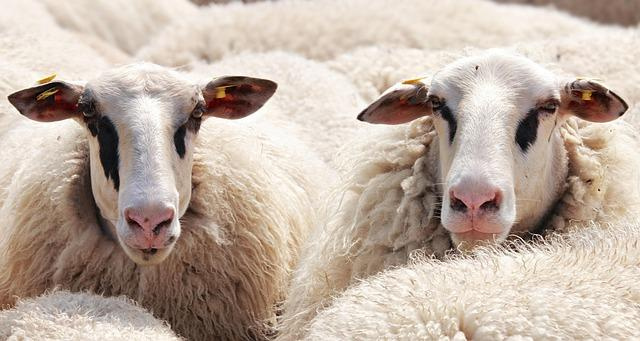Non_Gorille: (2, 16, 614, 334)
